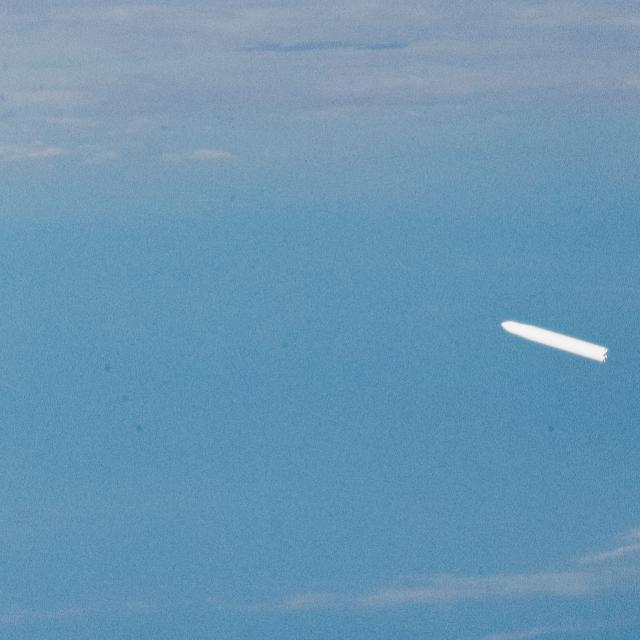rocket: (490, 306, 619, 377)
